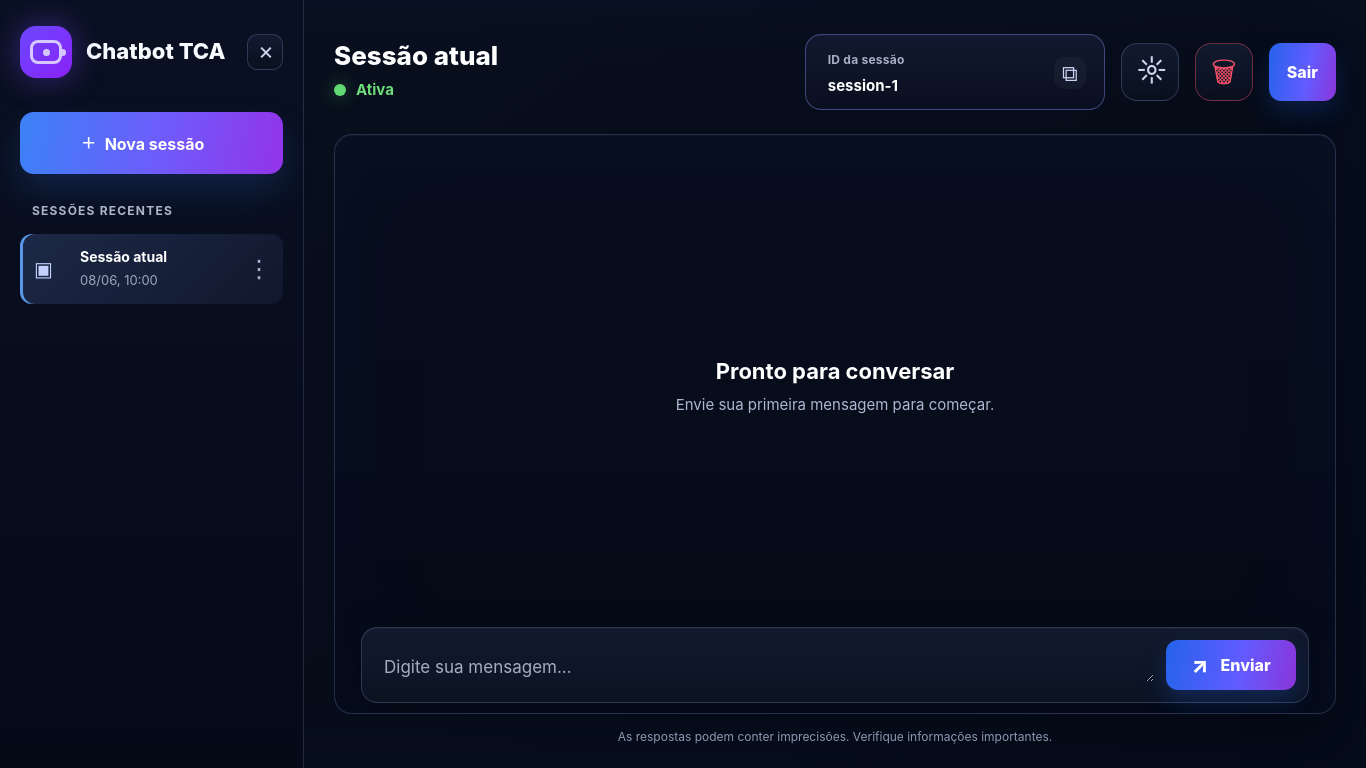
it: ChatBox › deletes an active backend session
The width and height of the screenshot is (1366, 768).
Check: the text "session-1" is shown, box [828,76,898,95]
Click the button named "Excluir sessão": click(1224, 72) [1195,43,1253,101]
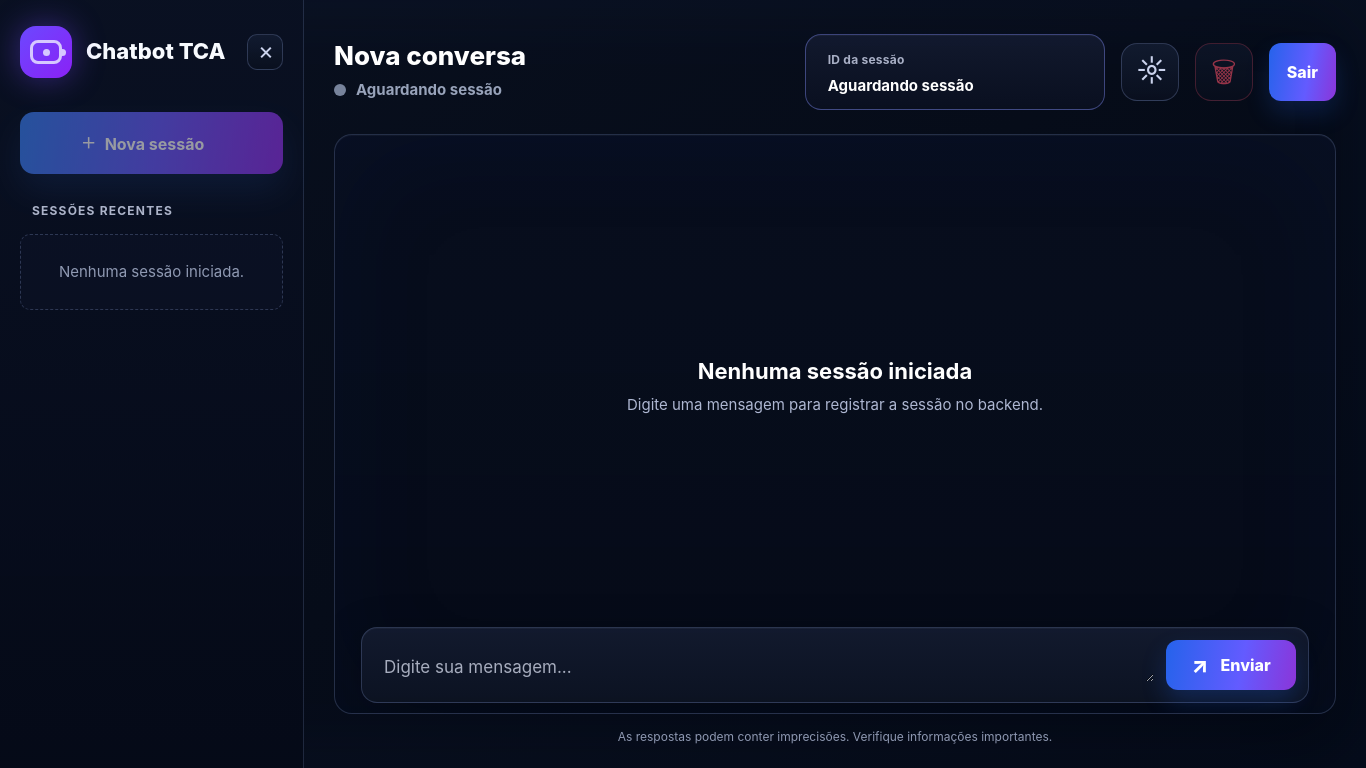
Check: the text "Nenhuma sessão iniciada." is shown, box [20,234,283,310]
